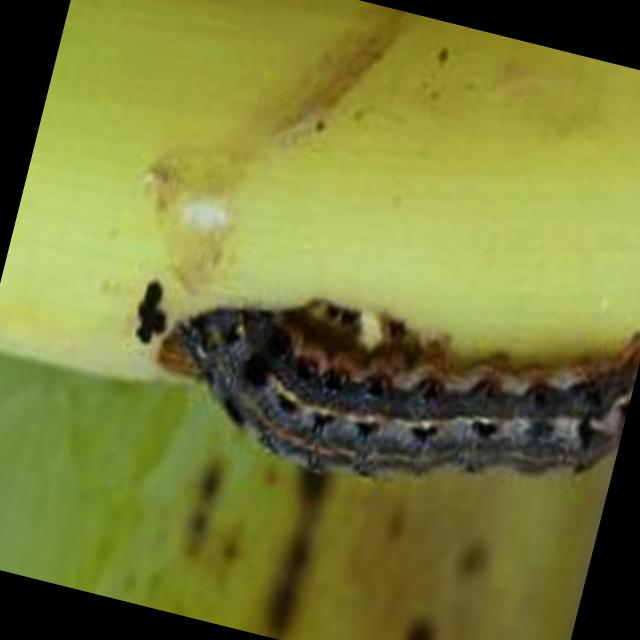Tobacco cutworm: (87, 140, 640, 607)
